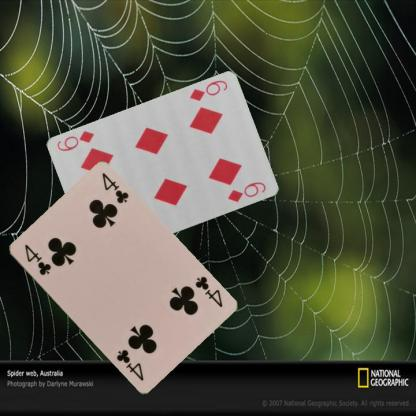4c: (192, 274, 224, 308), (22, 242, 52, 276)
6d: (186, 78, 228, 103)
